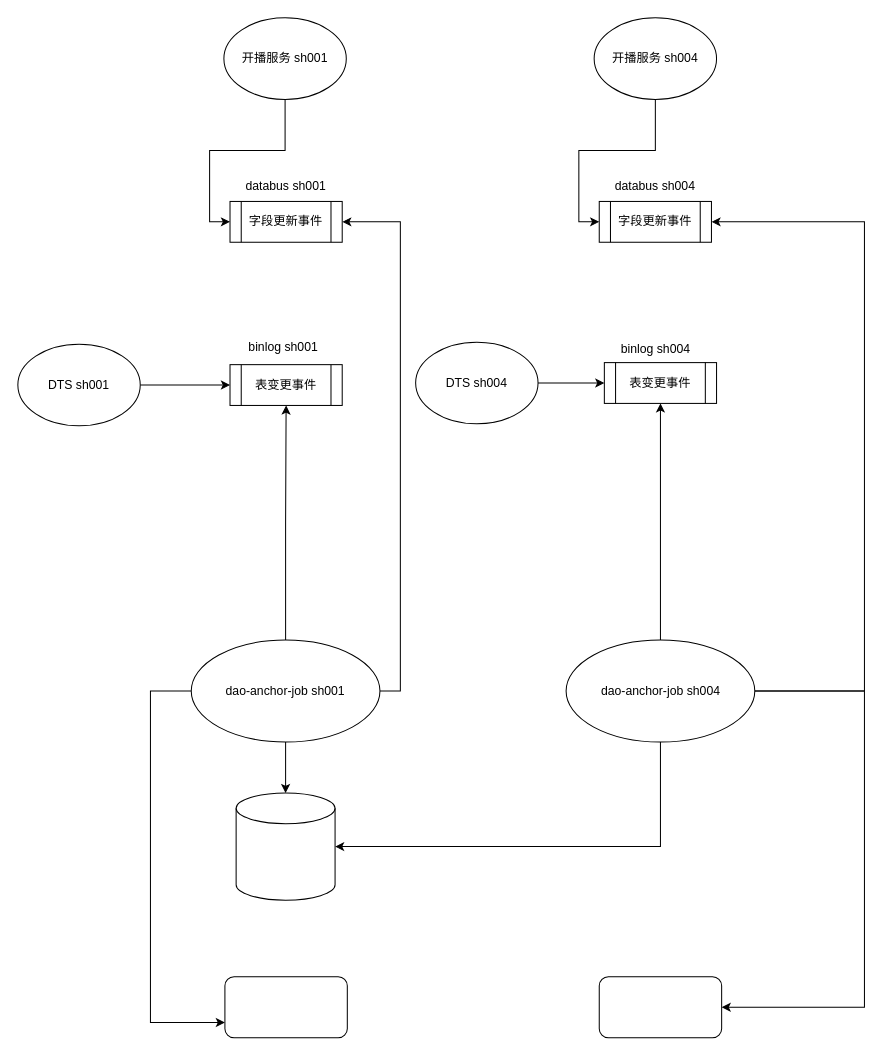
Some shapes in this 890 by 1056 pixel diagram are drawn without their labels. Here are the shapes that lost their labels. From the top down, the centre of each, then its label:
[285,846]: mysql sh001
[285,1007]: redis sh001
[660,1007]: redis sh004
